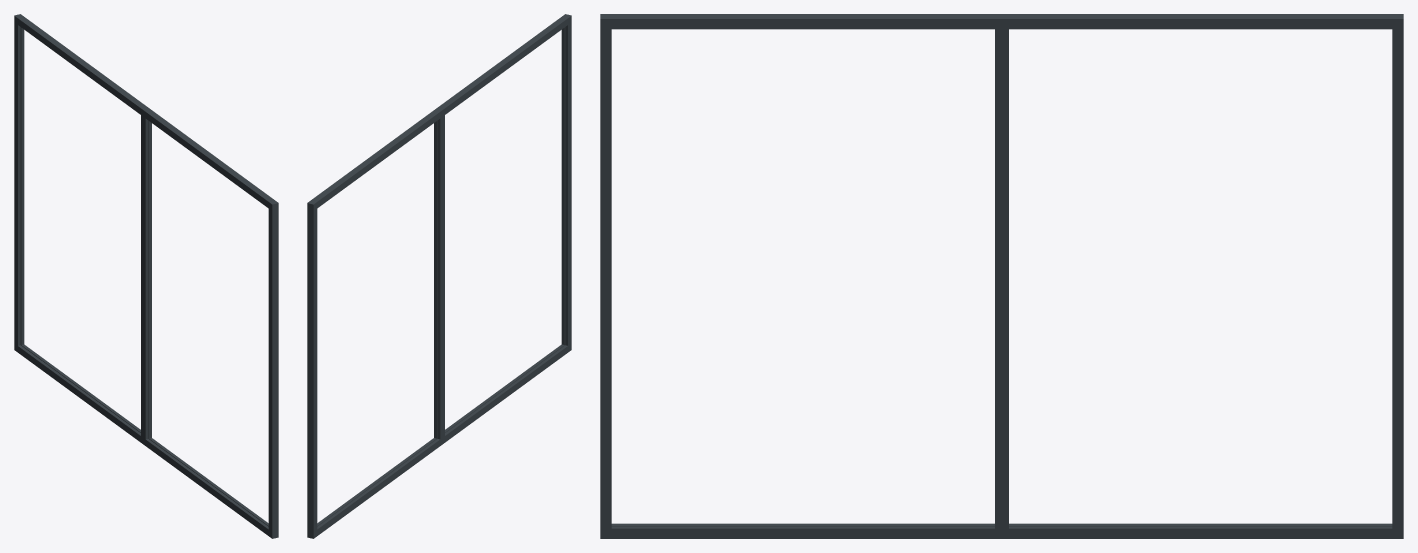
Rendered from window 01.fbx.
3 views of the same model, side by side, from view 1: azimuth 30°, elevation 25°; view 2: azimuth 150°, elevation 25°; view 3: azimuth 270°, elevation 25° (orthographic). The views are drawn at different scales.
Bounding box in the file's own units: 2.54 × 127 × 178.
Materials: 2 (2 with a texture image).
